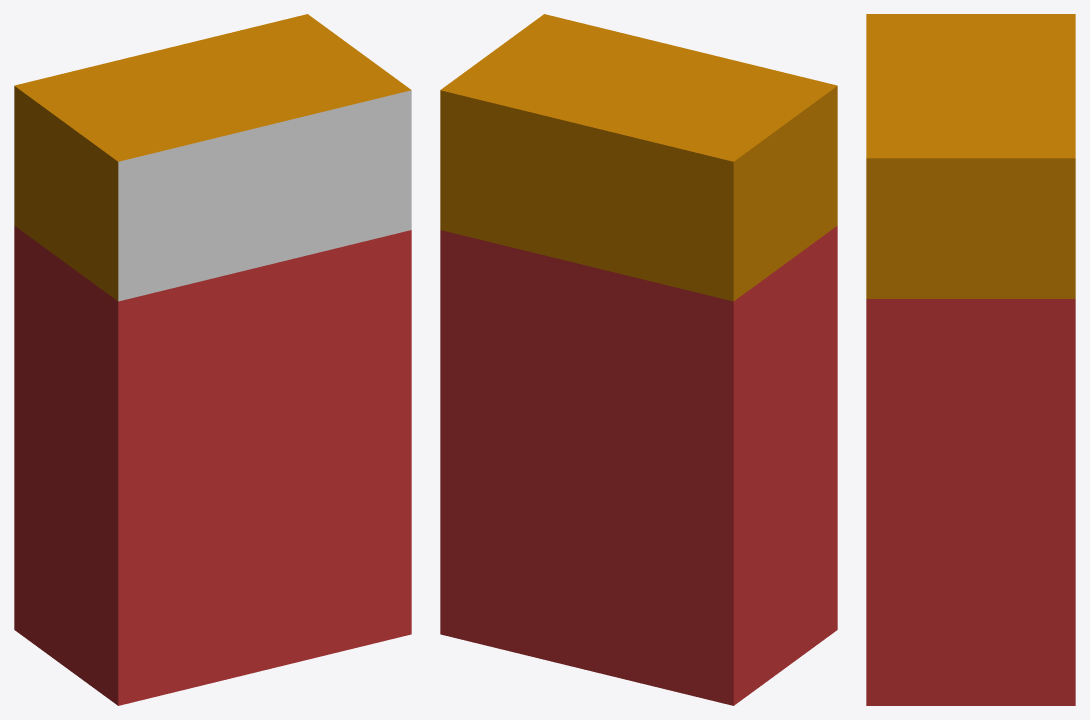
The model's file is battery_9V.fbx.
3 views of the same model, side by side, from view 1: azimuth 30°, elevation 25°; view 2: azimuth 150°, elevation 25°; view 3: azimuth 270°, elevation 25° (orthographic).
Parts seen in each view (by area): view 1: body; view 2: body; view 3: body.
Part boxes in pixels (x1,y1,x2,y2): body: (14,14,411,705); body: (440,14,837,705); body: (866,14,1075,705).
Size of the model in its own units: 9.21 by 16.32 by 5.66.
